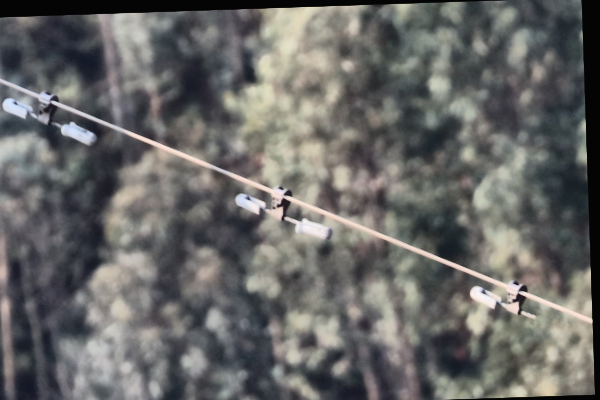damper: (230, 183, 335, 242), (1, 89, 100, 149)
damper_defect: (466, 277, 540, 322)
